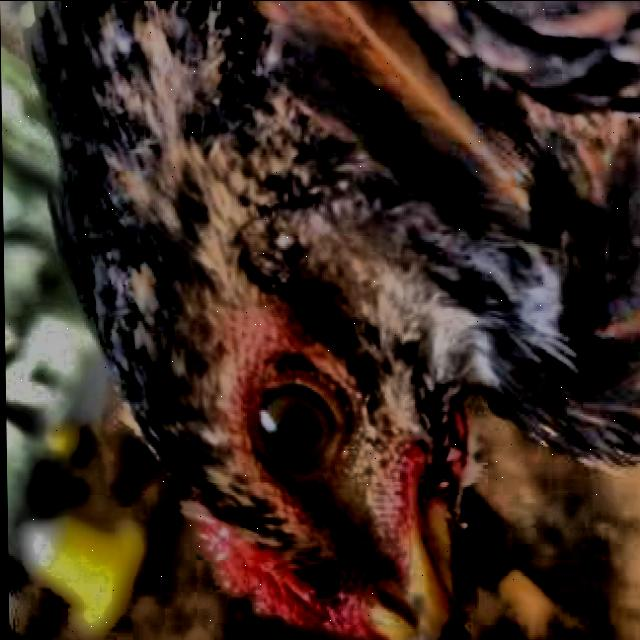Healthy: (227, 358, 387, 504)
